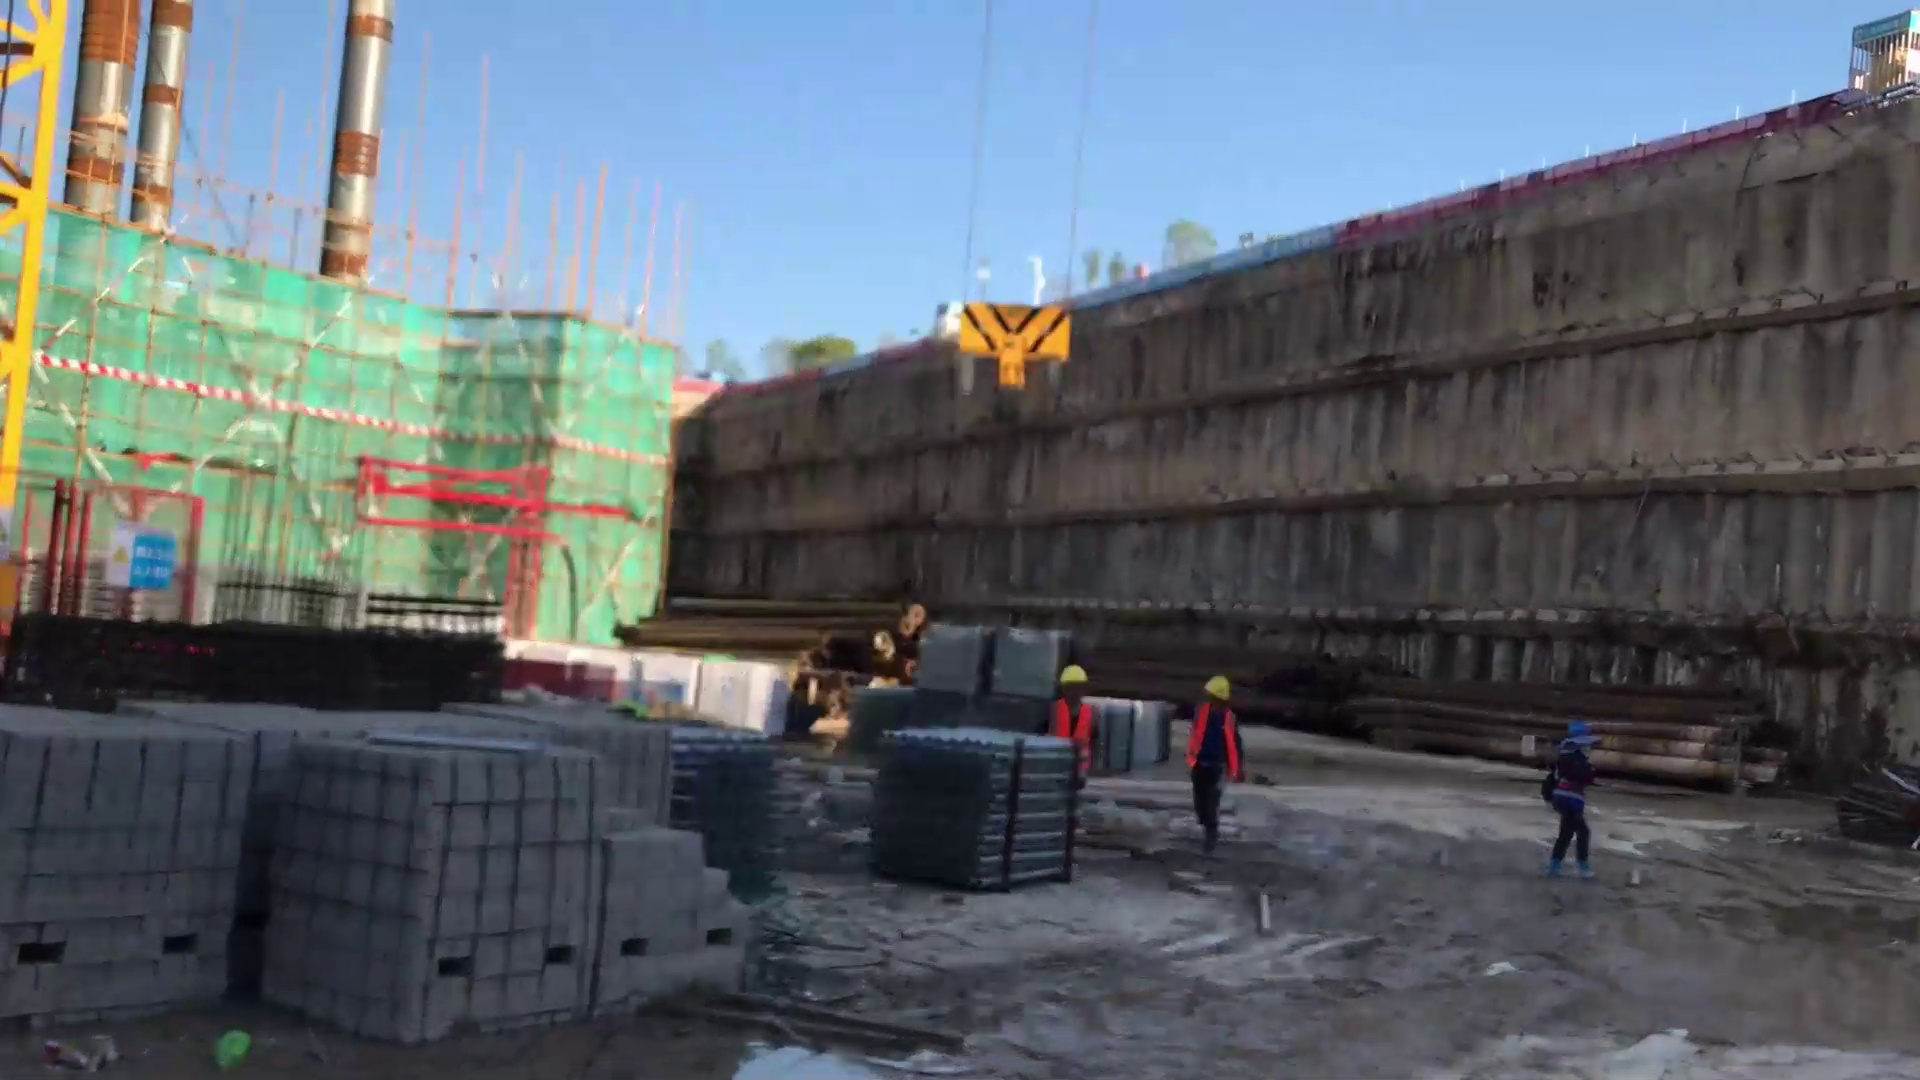brick: (4, 677, 752, 1029)
helmet: (1197, 669, 1248, 707), (1558, 706, 1609, 741), (1062, 656, 1108, 691)
hook: (952, 291, 1074, 387)
person: (1185, 669, 1251, 845), (1543, 714, 1608, 870), (1043, 661, 1097, 803)
scaffold: (861, 710, 1098, 897)
vest: (1175, 687, 1251, 784), (1043, 691, 1093, 769)
